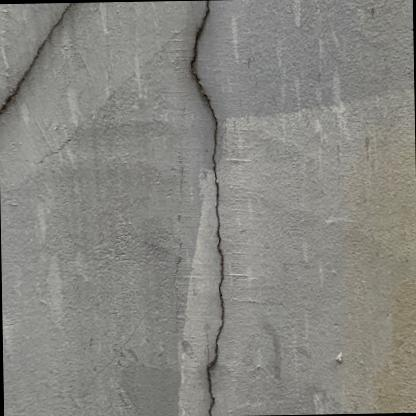crack: (188, 4, 227, 413)
